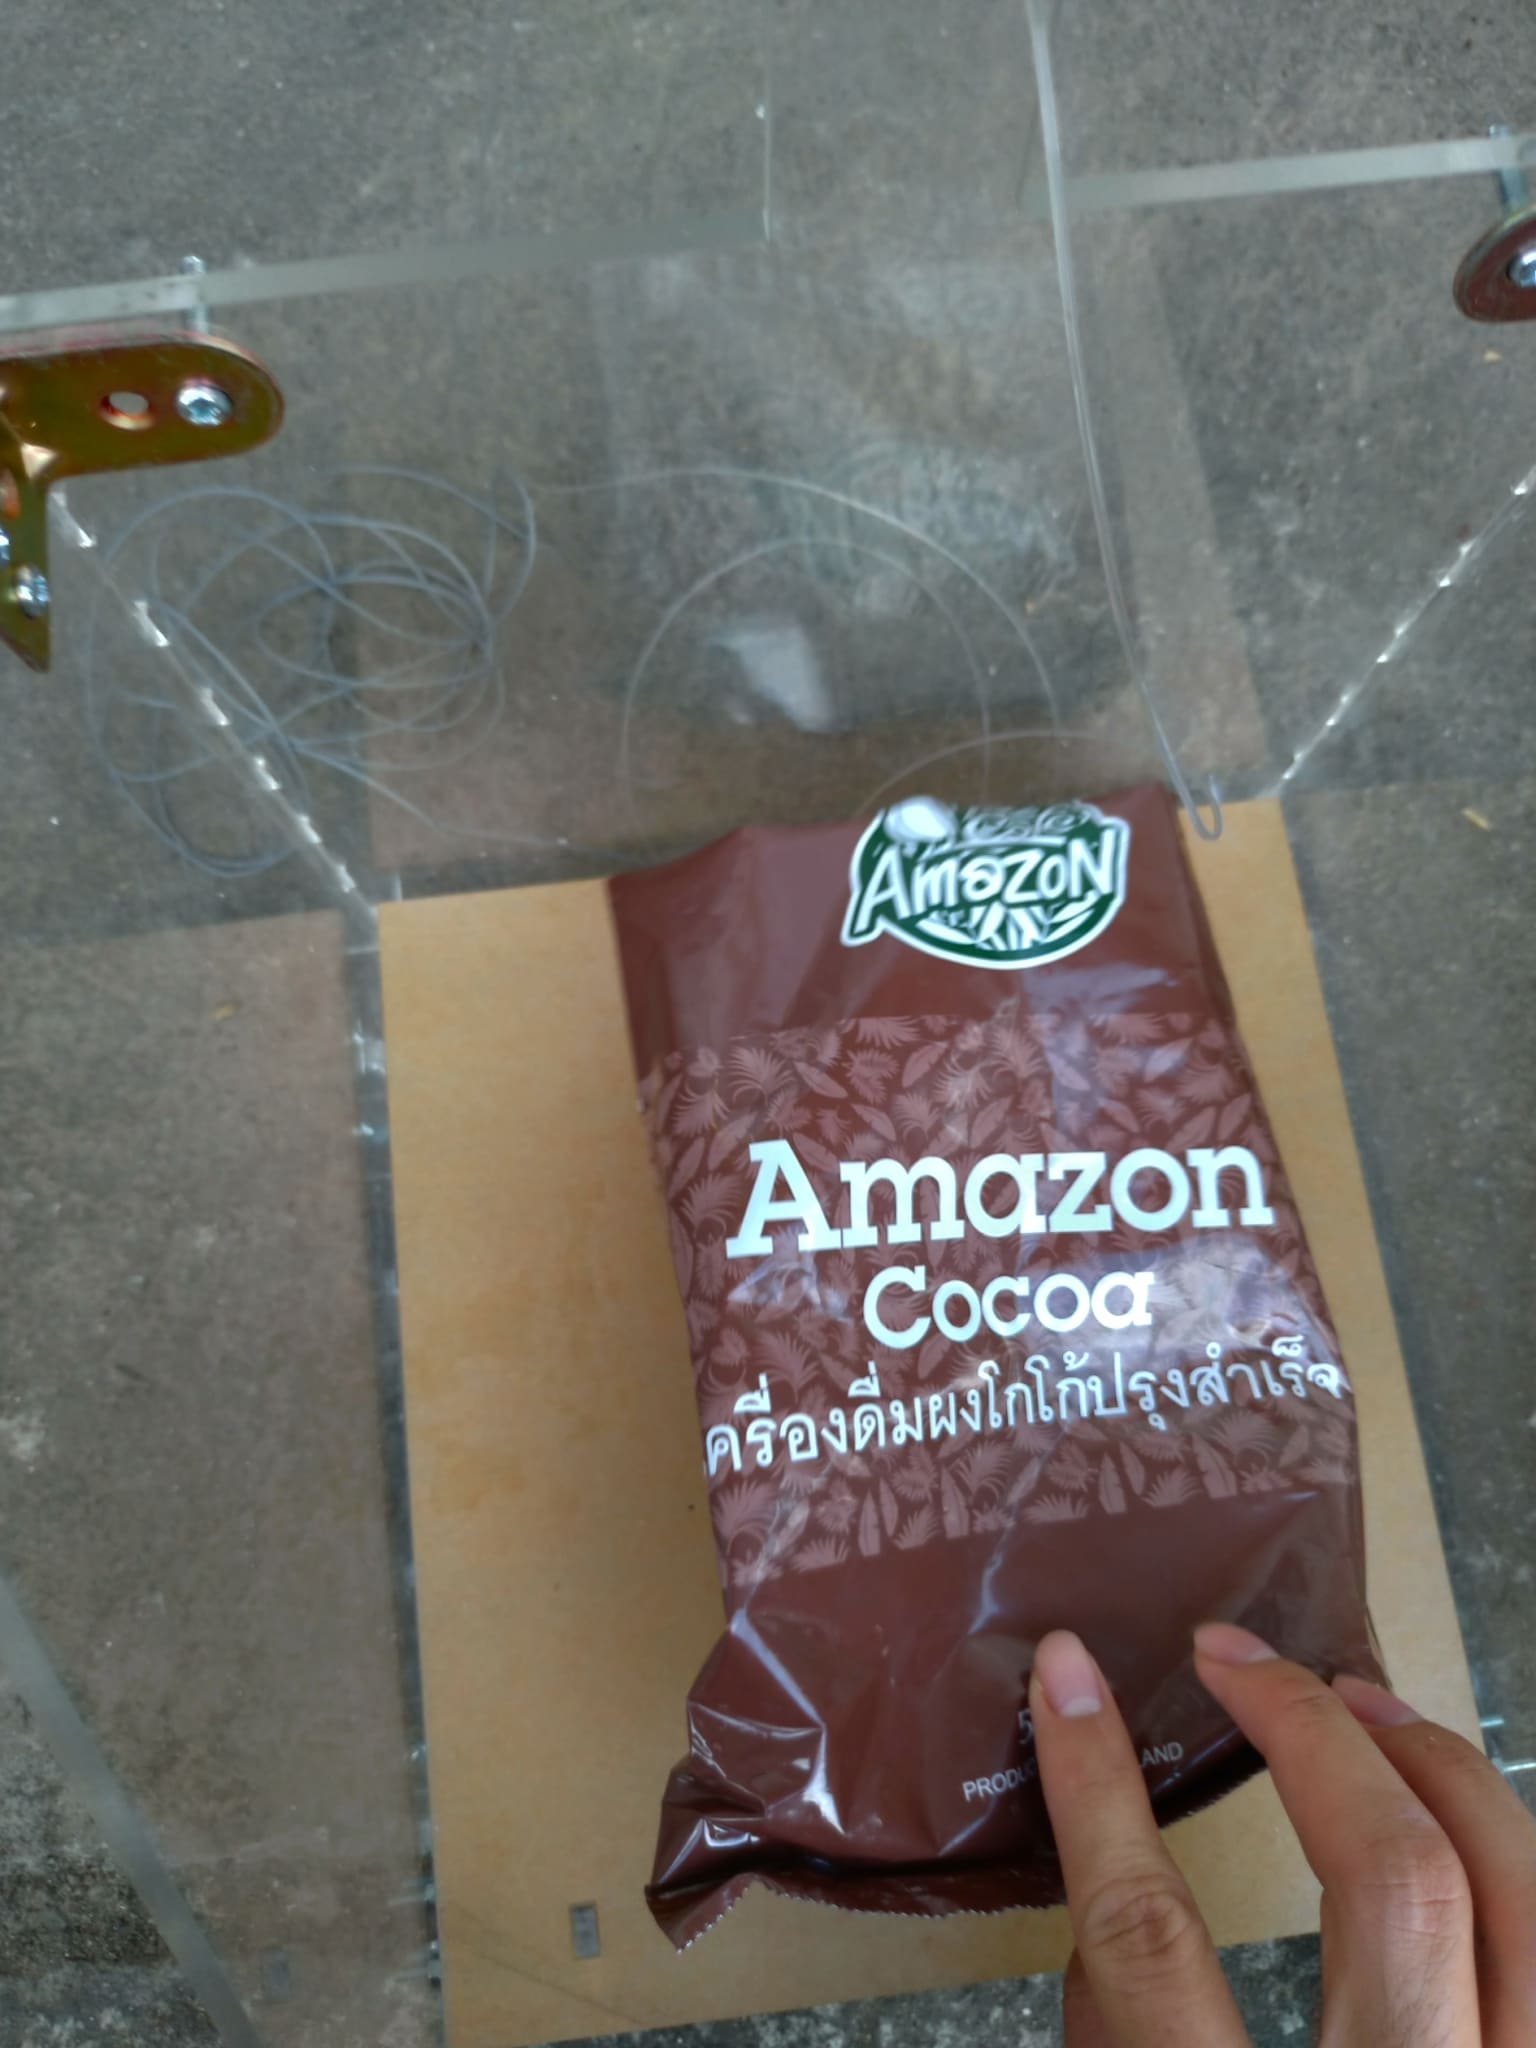Others: (610, 784, 1397, 1951)
